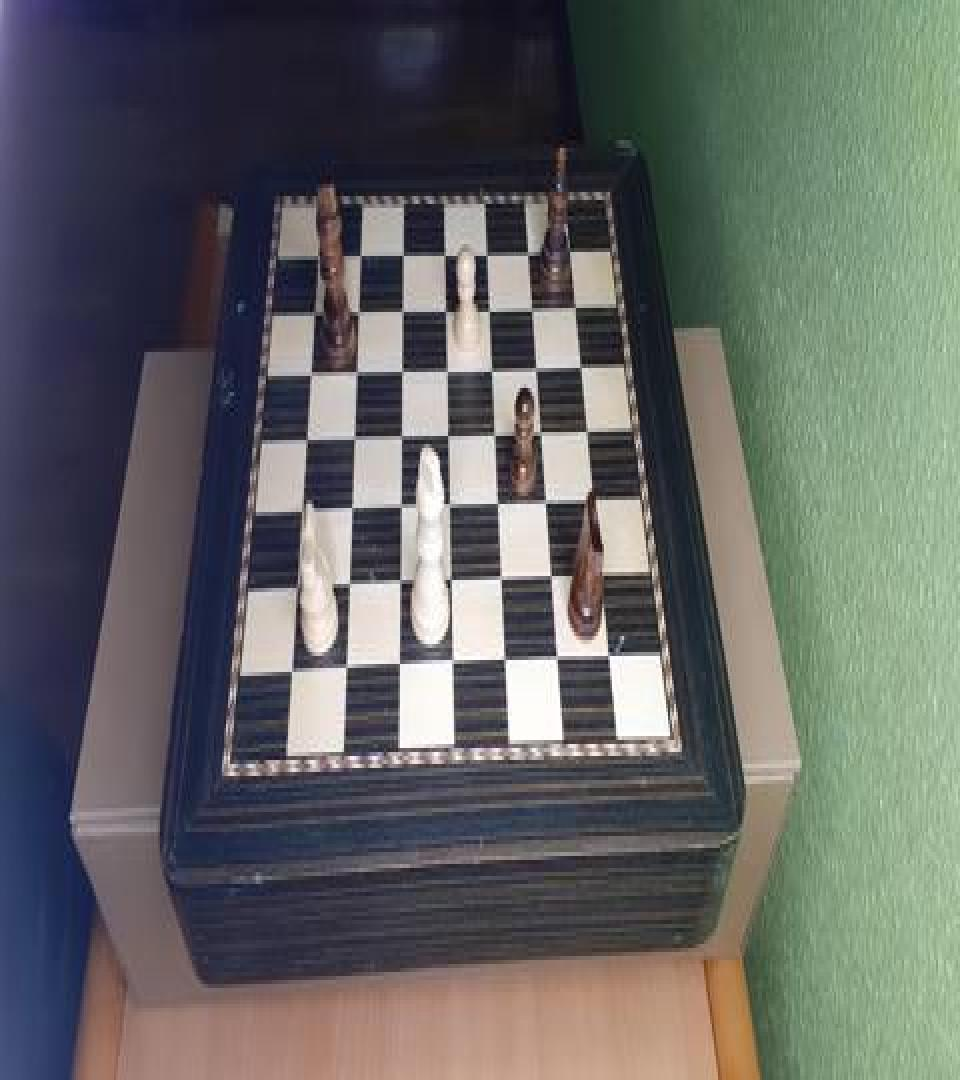xcorner: (311, 236, 323, 260), (307, 294, 319, 318), (303, 354, 315, 378), (299, 422, 311, 446), (294, 494, 306, 518), (289, 572, 301, 596), (283, 658, 295, 682), (354, 236, 366, 260), (352, 292, 364, 316), (350, 354, 362, 378), (347, 420, 359, 444), (345, 492, 357, 516), (342, 570, 354, 594), (339, 654, 351, 678), (397, 236, 409, 260), (397, 292, 409, 316), (396, 354, 408, 378), (396, 418, 408, 442), (395, 490, 407, 514), (395, 568, 407, 592), (394, 652, 406, 676), (440, 236, 452, 260), (441, 292, 453, 316), (442, 352, 454, 376), (444, 418, 456, 442), (445, 488, 457, 512), (447, 566, 459, 590), (448, 650, 460, 674), (482, 236, 494, 260), (485, 292, 497, 316), (488, 352, 500, 376), (491, 416, 503, 440), (494, 486, 506, 510), (498, 564, 510, 588), (502, 646, 514, 670), (524, 236, 536, 260), (528, 290, 540, 314), (533, 350, 545, 374), (538, 416, 550, 440), (543, 486, 555, 510), (549, 562, 561, 586), (555, 644, 567, 668), (566, 234, 578, 258), (571, 290, 583, 314), (578, 350, 590, 374), (584, 414, 596, 438), (591, 484, 603, 508), (599, 560, 611, 584), (608, 642, 620, 666)
